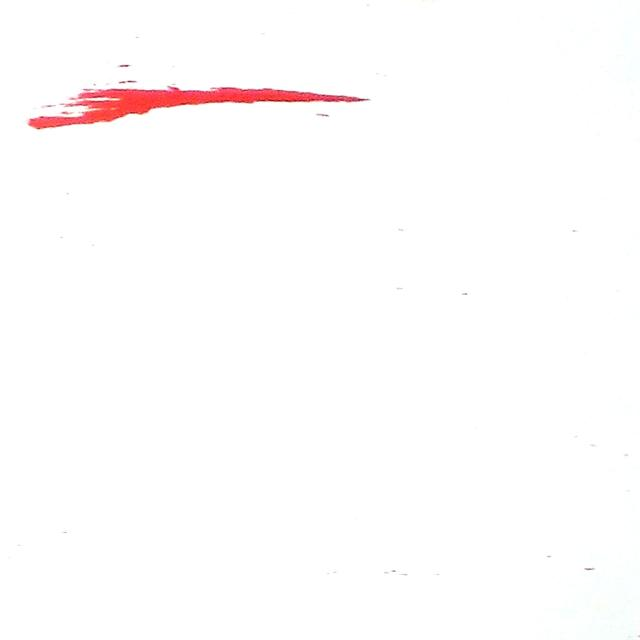surface_peeling: (22, 78, 388, 135)
